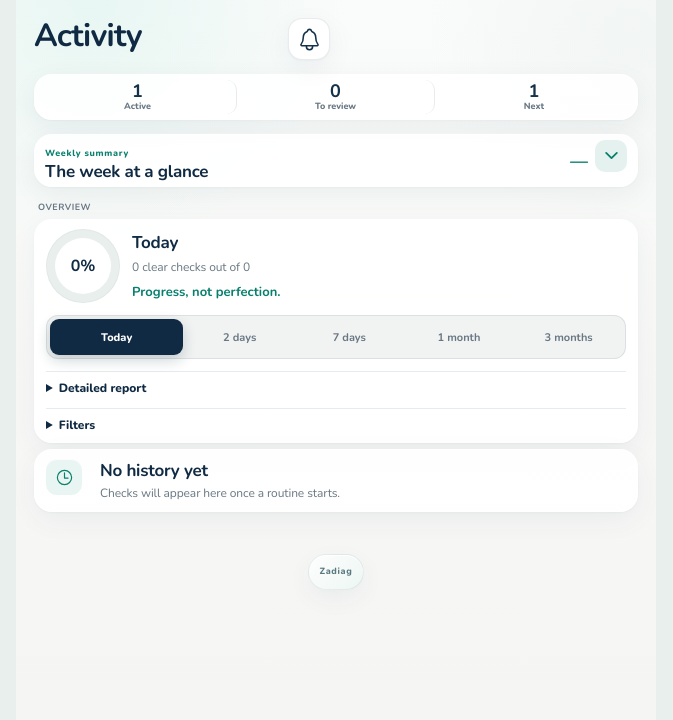
ParentDashboard › distinguishes upcoming checks from an active check to complete
Expected: the text "Upcoming checks" is not shown
Step 1. Click the button "1 Next" → (534, 97), box [435,80,633,114]
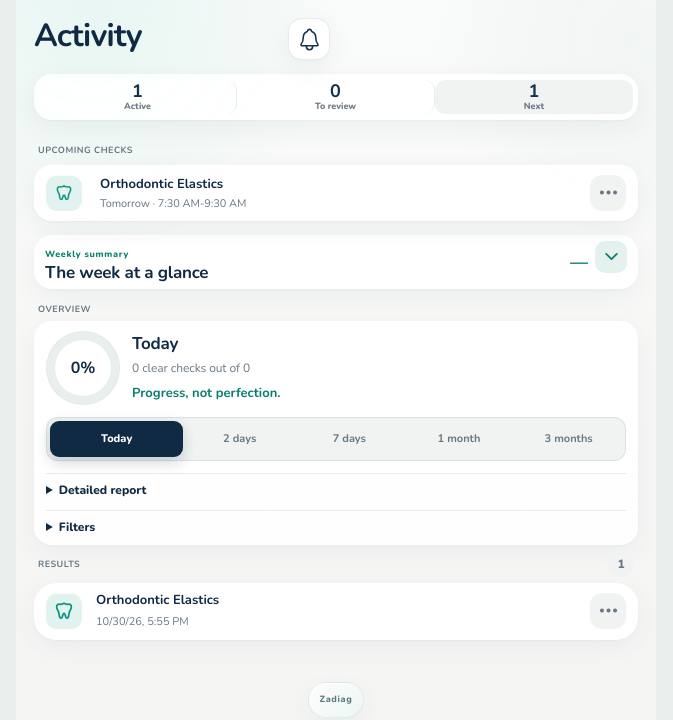
Now the text "Upcoming checks" is shown, box [38,144,133,156]
Step 2. Click the button "1 Active" → (138, 97), box [39,80,237,114]
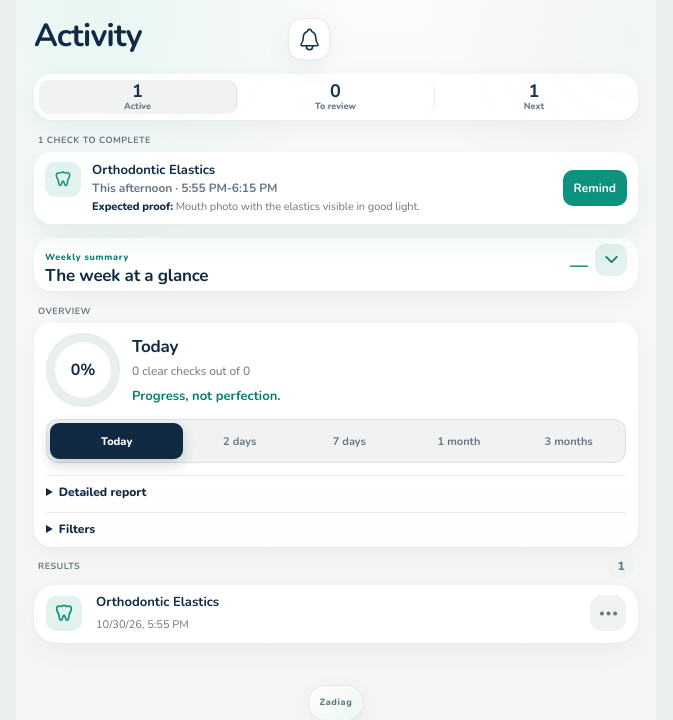
Now the text "Orthodontic Elastics" is shown, box [92,161,215,179]
Now the text "1 check to complete" is shown, box [38,134,151,146]
Now the text "Expected proof: Mouth photo" is shown, box [92,200,420,215]
